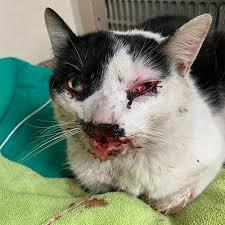bleeding: (85, 117, 118, 156), (130, 73, 154, 97)
